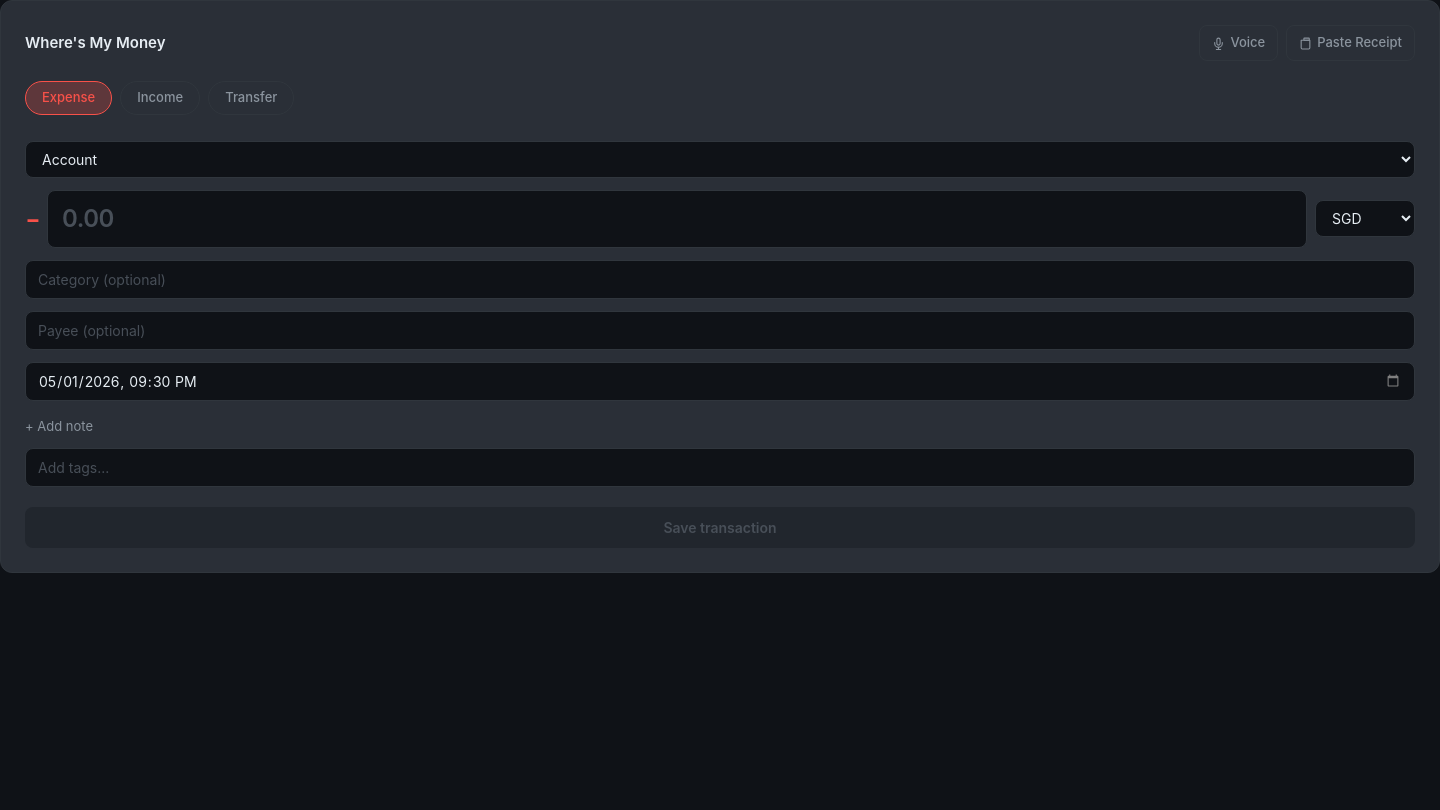
Scenario: Voice input regression › shows Listening… and changes aria-label while active
What coordinates should you click on to do the following:
click the button with aria-label "tap mic"
I would click on:
 (1239, 43)
Its box is x1=1199 y1=25 x2=1278 y2=61.
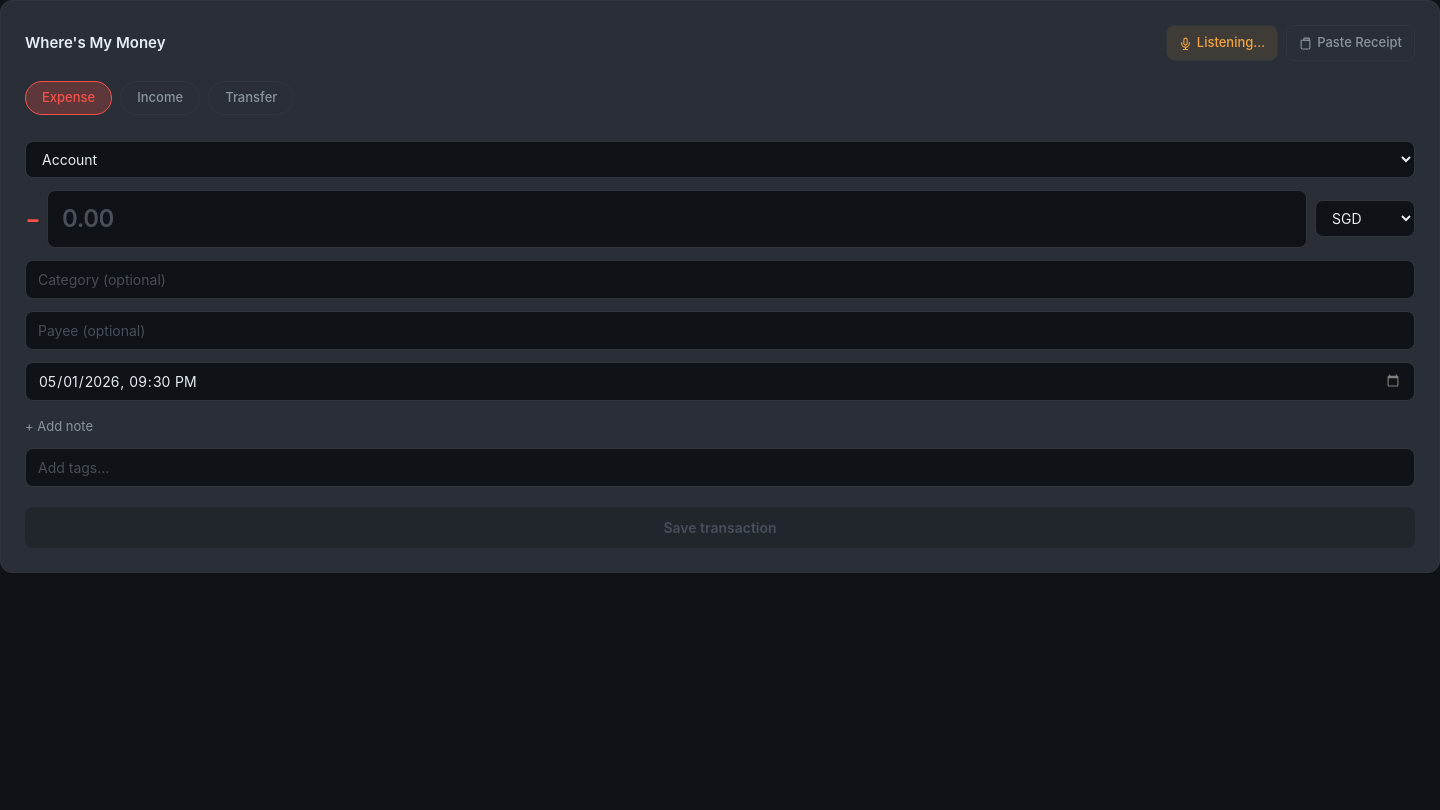
Check: the button with aria-label "stop listening" reads "Listening…", box x1=1166 y1=25 x2=1278 y2=61
